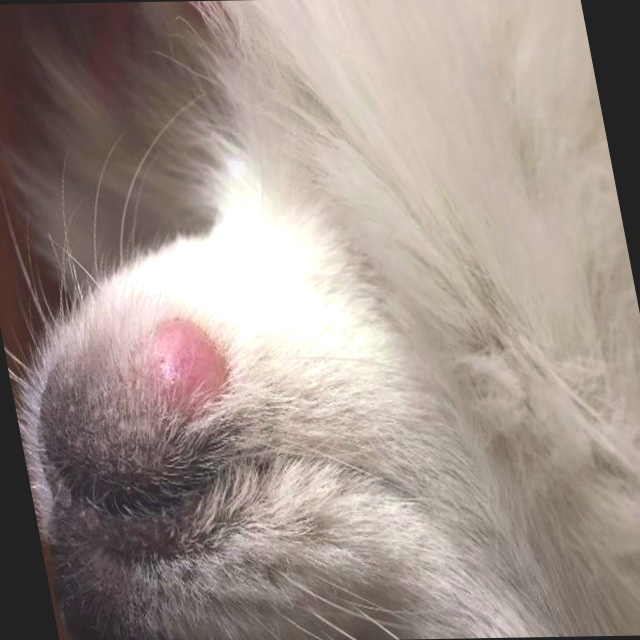lump_and_bump: (130, 317, 241, 425)
